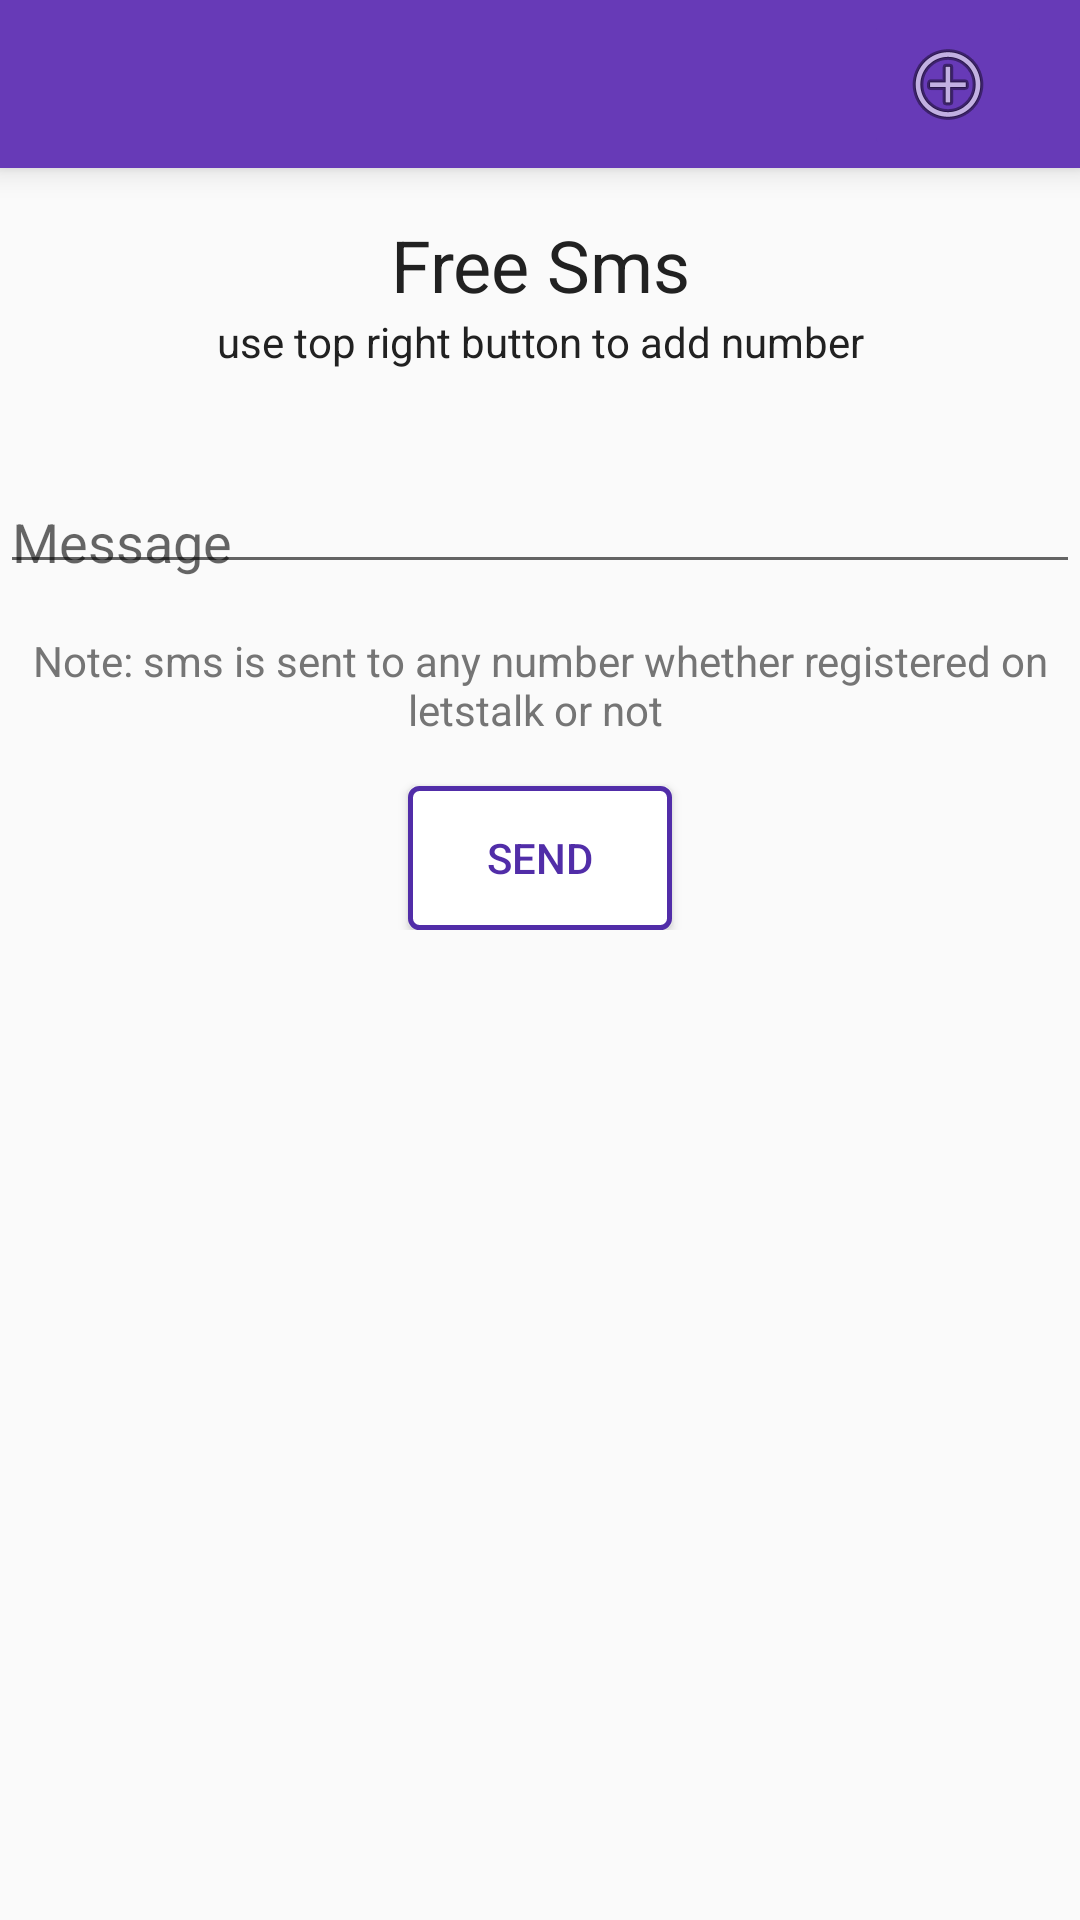

Where icons sit on this 1080px x 1920px app screen, as (x1, y1, x2, y2):
add: (912, 49, 984, 120)
